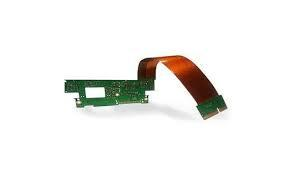Printed Circuit Board PCB: (64, 55, 228, 120)
